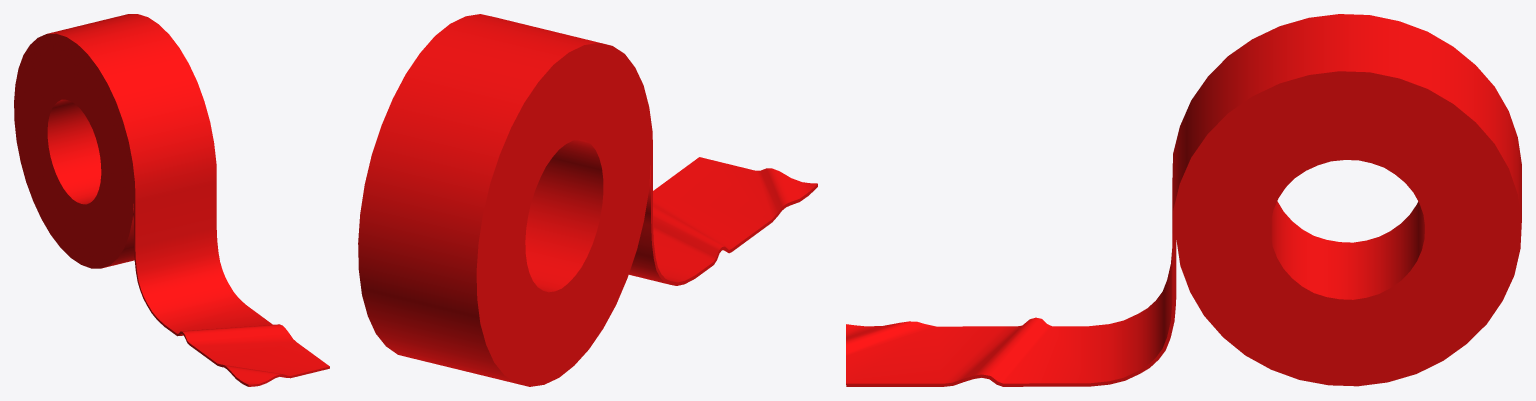
File: SM_Police_Line_twisted_3.FBX
The picture shows the model from 3 angles, left to right: view 1: azimuth 30°, elevation 25°; view 2: azimuth 150°, elevation 25°; view 3: azimuth 270°, elevation 25°; orthographic projection. The views are drawn at different scales.
Visible parts, largest first — view 1: Police_Line_twisted_3; view 2: Police_Line_twisted_3; view 3: Police_Line_twisted_3.
Boxes of the visible parts, x1,y1,x2,y2 form: Police_Line_twisted_3: (14,14,329,386); Police_Line_twisted_3: (358,14,817,386); Police_Line_twisted_3: (846,14,1521,386).
Bounding box in the file's own units: 5.23 × 13.45 × 26.08.
